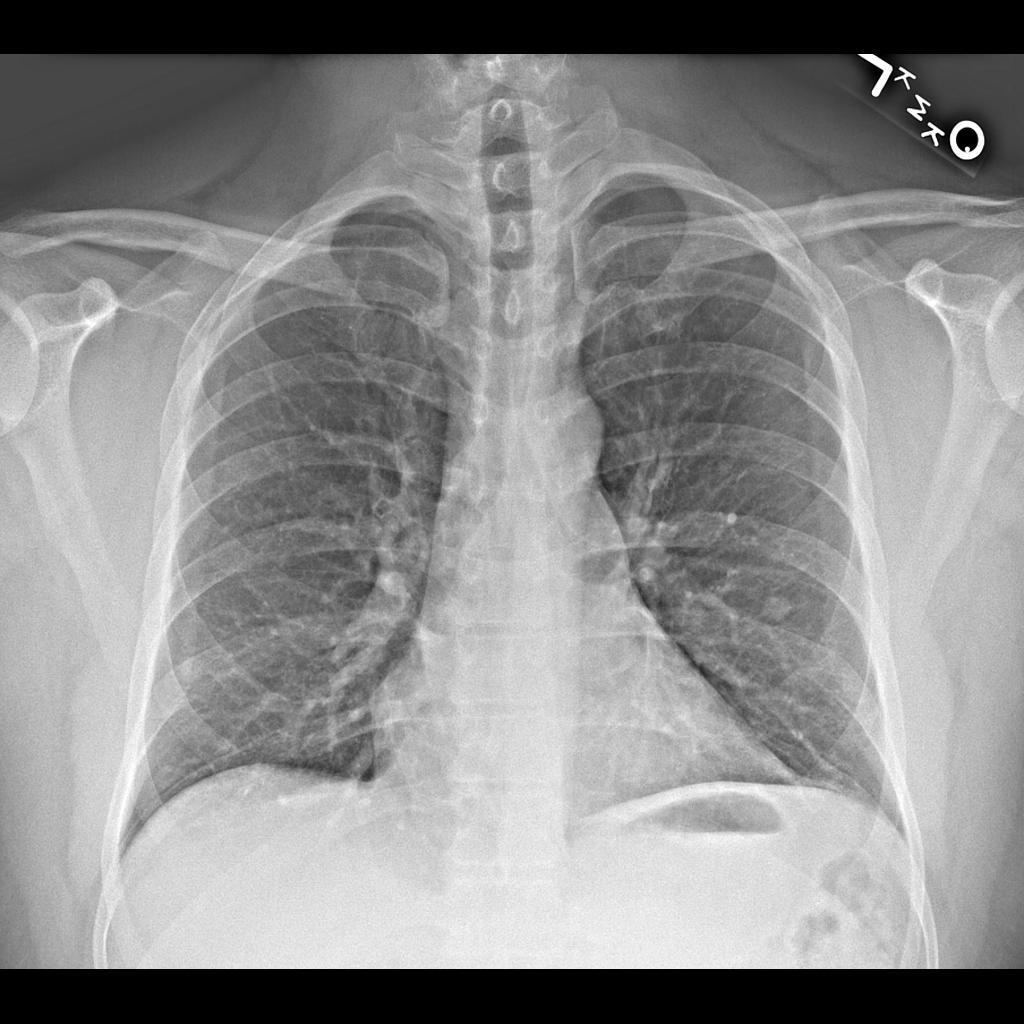Nodule: (760, 592, 796, 628)
